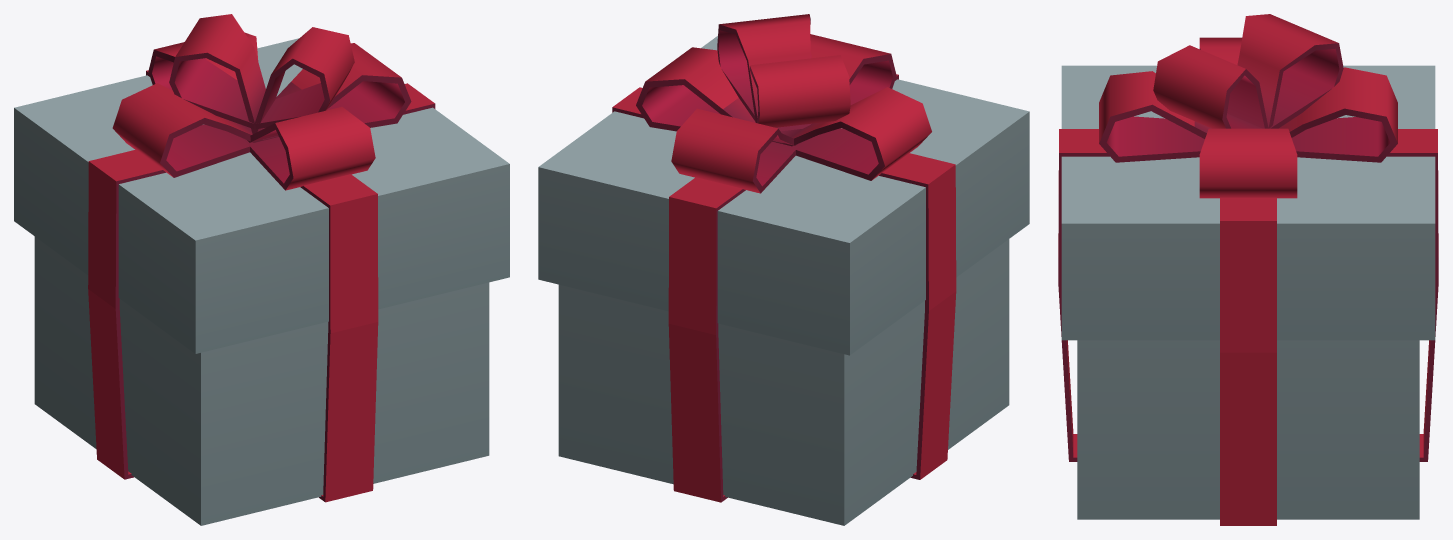
3 views of the same model, side by side, from view 1: azimuth 30°, elevation 25°; view 2: azimuth 150°, elevation 25°; view 3: azimuth 270°, elevation 25° (orthographic). The views are drawn at different scales.
Parts seen in each view (by area): view 1: base.432; view 2: base.432; view 3: base.432.
Boxes of the visible parts, x1,y1,x2,y2 form: base.432: (14,14,509,525); base.432: (538,14,1029,525); base.432: (1058,14,1438,525).
Size of the model in its own units: 0.4244 by 0.5 by 0.4244.
